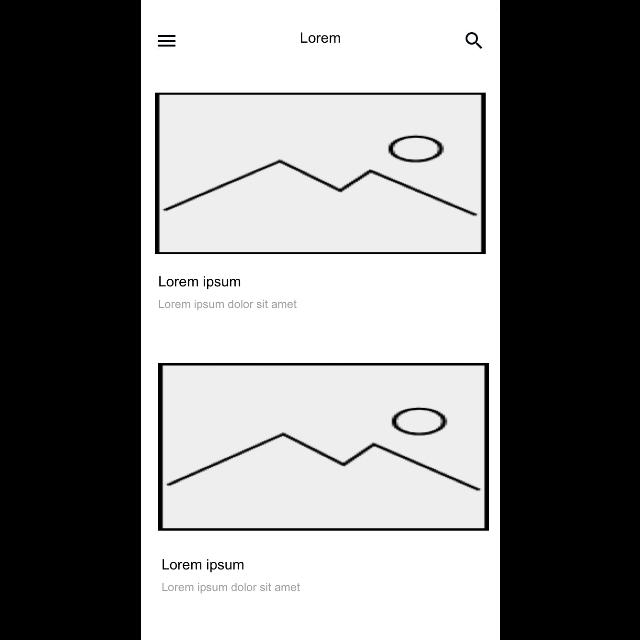icon: (466, 32, 482, 49), (157, 35, 175, 47)
image: (157, 364, 488, 530), (154, 93, 486, 255)
text: (161, 582, 299, 594), (158, 300, 296, 310), (158, 276, 240, 290), (162, 559, 244, 573), (300, 32, 340, 44)
